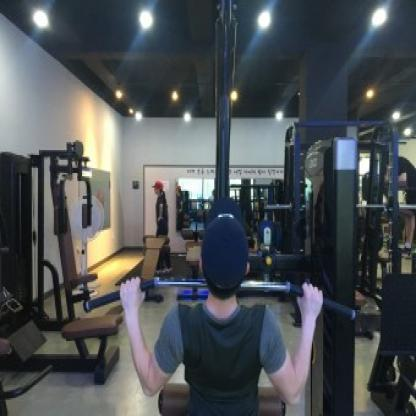Lat Pull Down: (77, 0, 367, 416)
